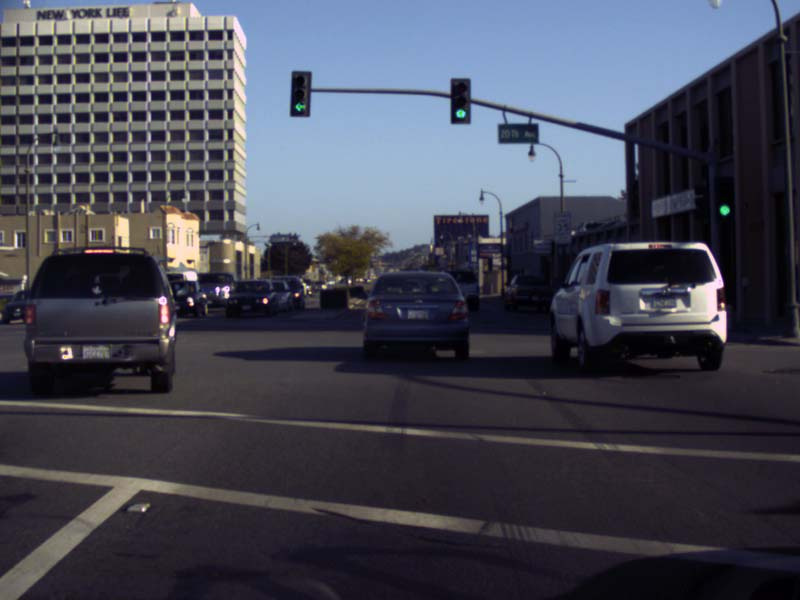Green: (450, 77, 470, 124), (290, 70, 309, 116), (712, 175, 732, 217)
